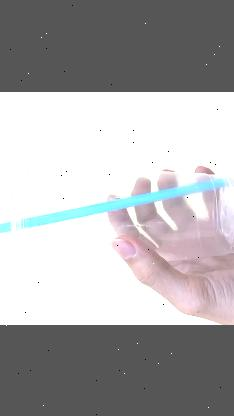Others: (0, 149, 234, 285)
